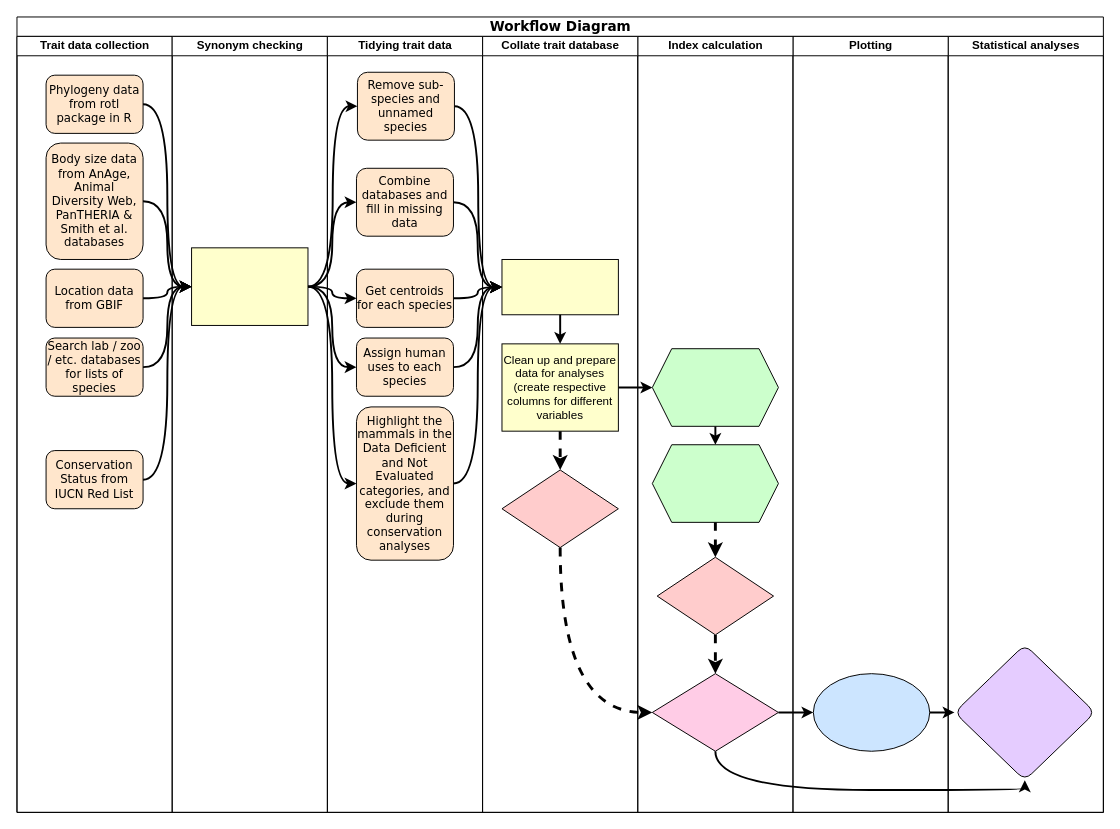
The diagram is 1120 pixels wide and 829 high, and some of its shapes have lost their labels. The centre of each missing label's shape, as x and y in pixels:
"Check synonyms for all datasets and collect the maximum number of data points" goes at point 249,286.
"Combined database" goes at point 714,712.
"Estimate the values of missing data" goes at point 559,287.
"Further analyses of the relationships between different variables" goes at point 1024,712.
"Graph plotting with ggplot2" goes at point 871,712.
"Index database" goes at point 715,595.
"Run Allindices() function to calculate indices" goes at point 714,483.
"Run FetchSpTAK() function for all species to retrieve citation records" goes at point 714,387.
"Trait database" goes at point 559,508.
